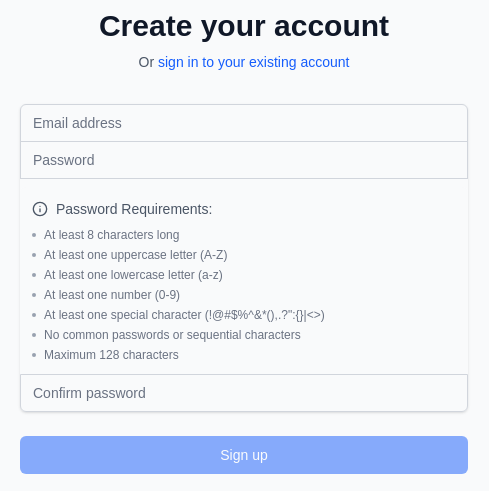
Test: SignUp Page › should show error when passwords do not match
In the field with placeholder "Email address": (244, 123) 20,104 -> 468,142, type "test@example.com"
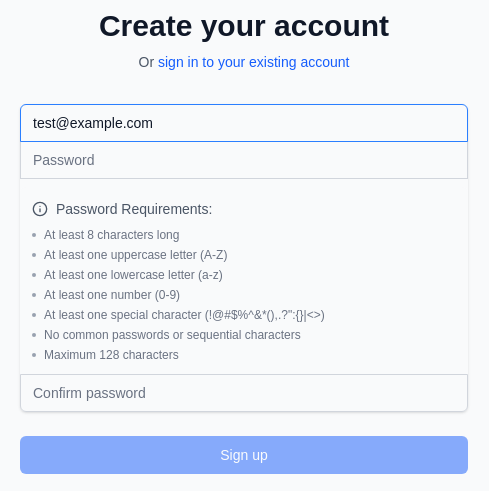
In the password field with placeholder "Password": (244, 160) 20,141 -> 468,179, type "MySecure2024#Pass"
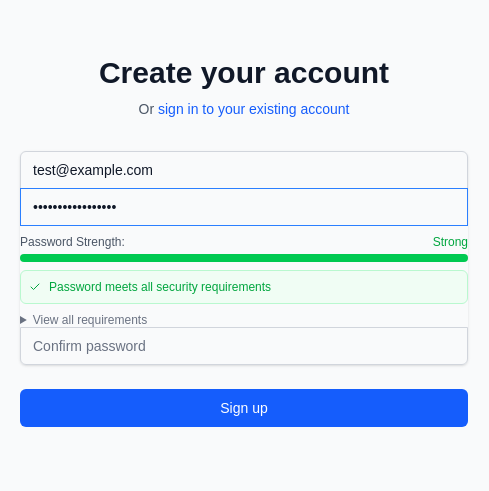
In the password field with placeholder "Confirm password": (244, 346) 20,327 -> 468,365, type "DifferentSecure2025#Pass"
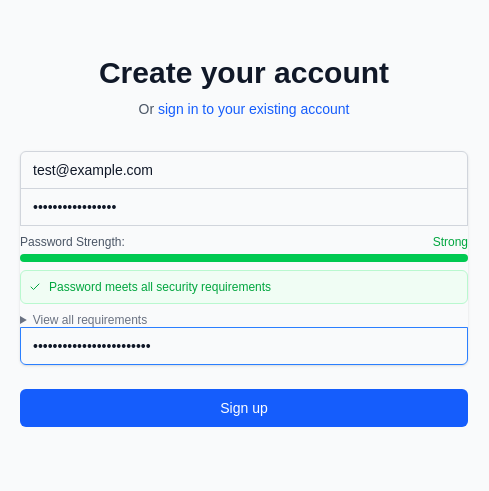
Now the text "Strong" is shown, box 433,234 -> 468,250
Click the button "Sign up": (244, 408) 20,389 -> 468,427
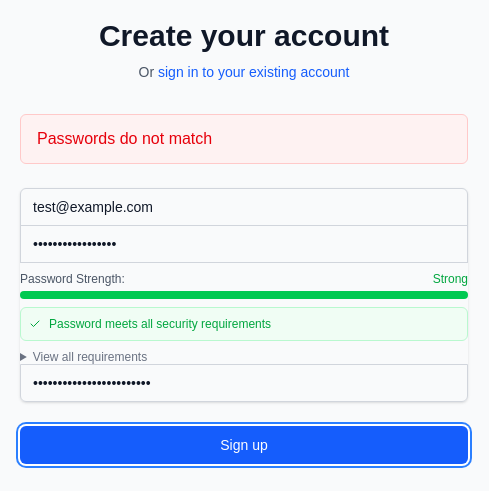
Now the text "Passwords do not match" is shown, box 20,114 -> 468,164
